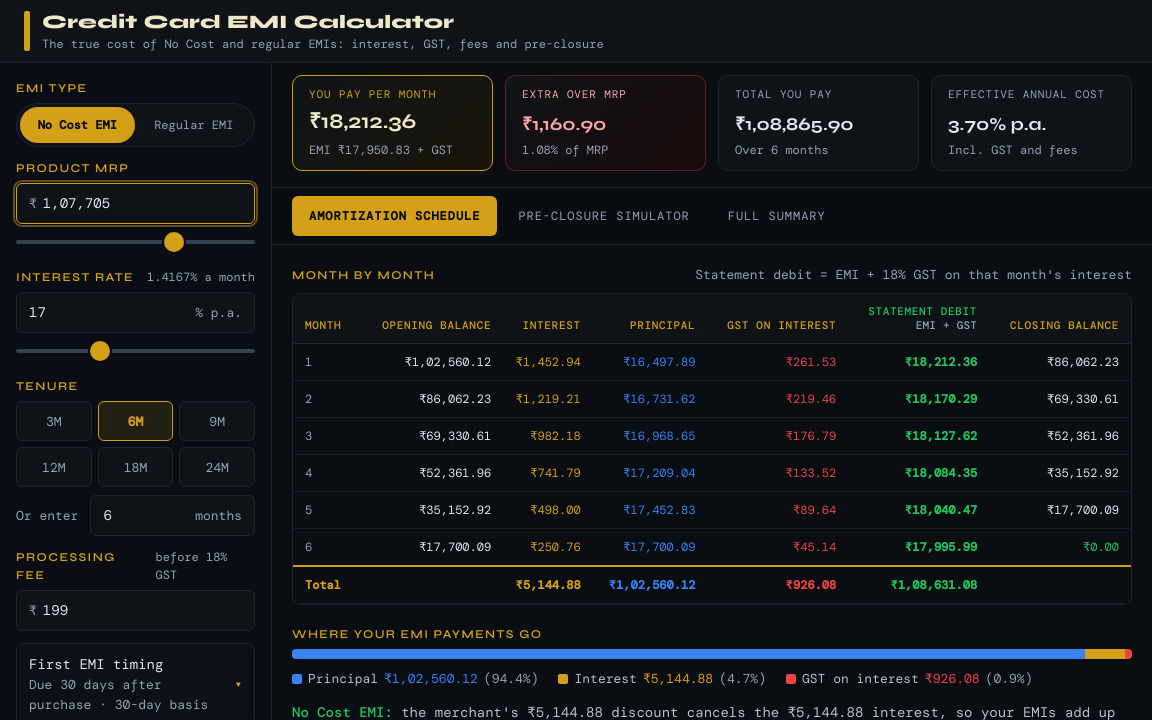
Test case: number fields keep the user's draft › restores the last valid MRP when the field is left empty
The image size is (1152, 720).
Clear the field named "Product MRP (₹)" at (142, 204), box x1=43 y1=184 x2=242 y2=223
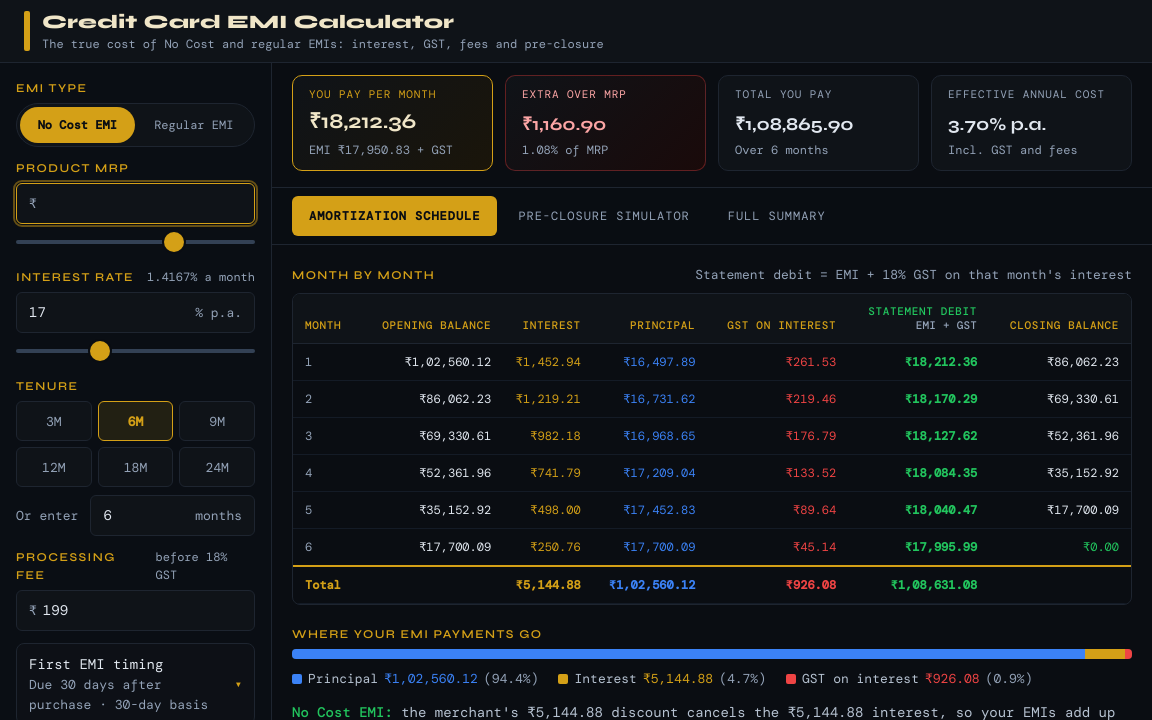
Leave the field named "Product MRP (₹)", box x1=43 y1=184 x2=242 y2=223
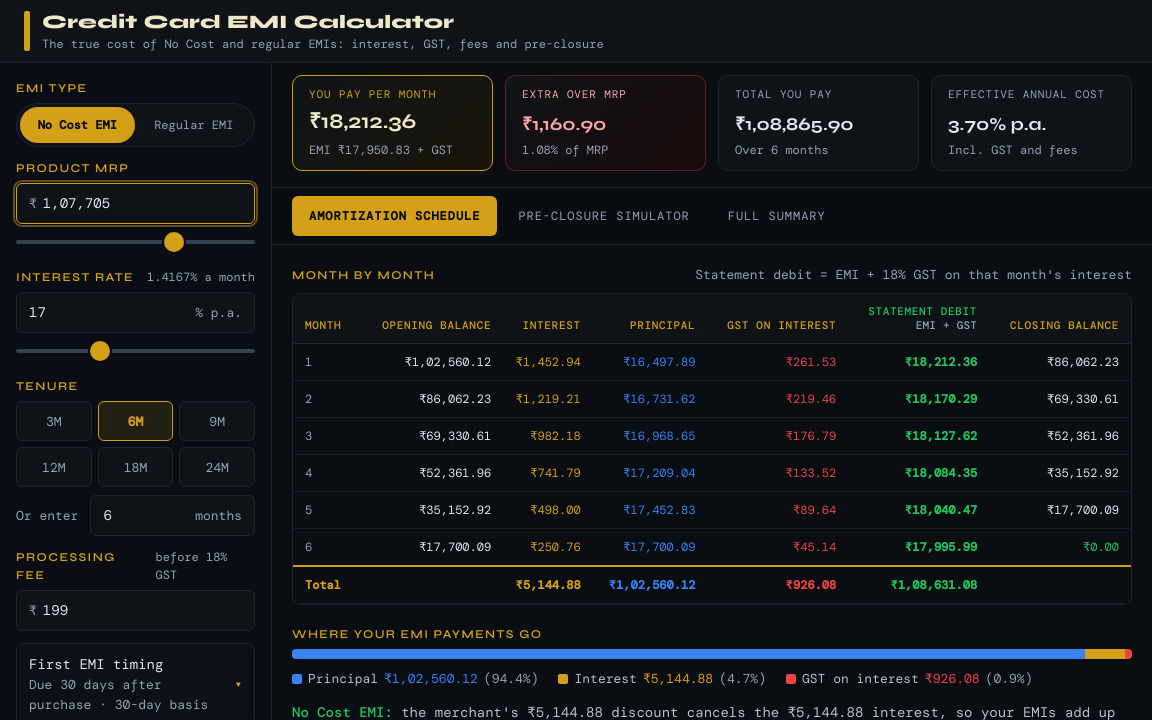
expect the field named "Product MRP (₹)" holds "1,07,705": met, box x1=43 y1=184 x2=242 y2=223
